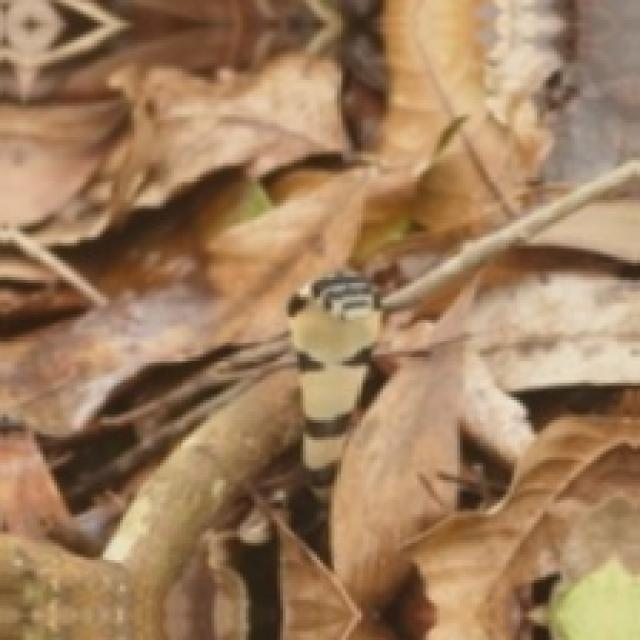king cobra: (289, 271, 380, 483)
